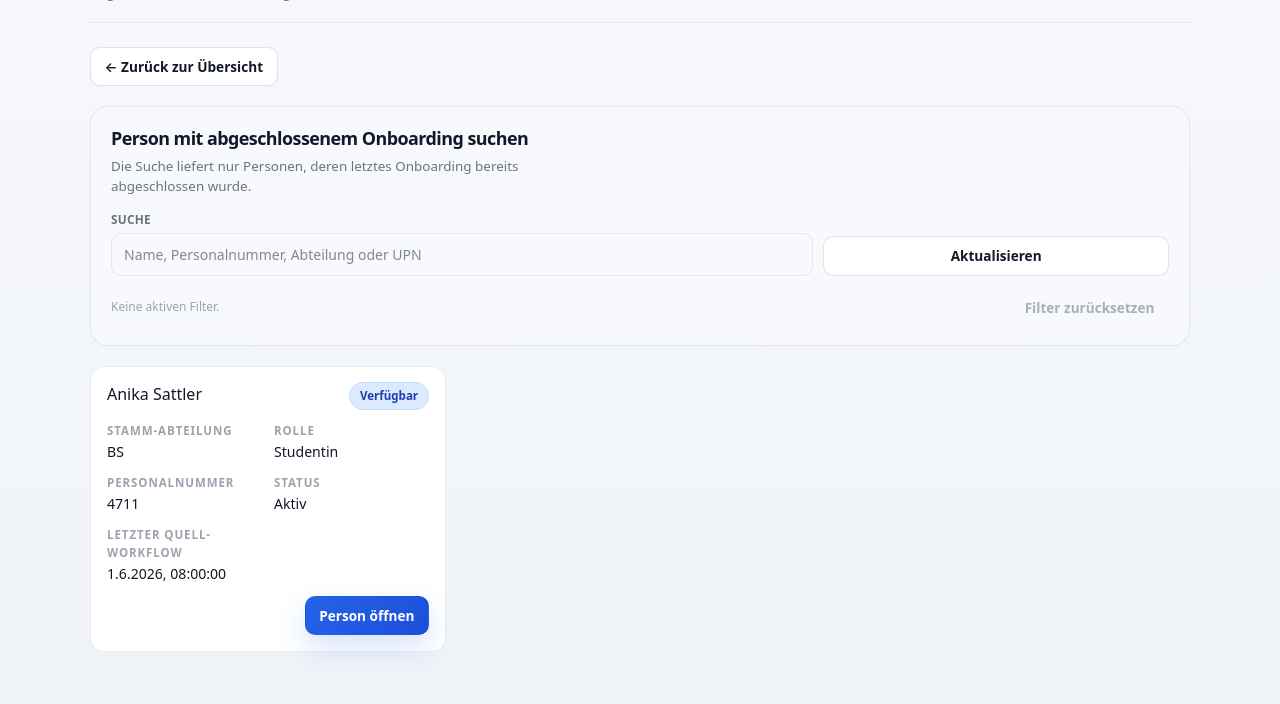
Test: RotationPlanningPage › shows eligible people and existing plans for the selected person
The image size is (1280, 704).
(page scrolled)
Expected: the heading "Anika Sattler" is shown, top-left (107, 382), bottom-right (202, 407)
Expected: the text "BS" is shown, top-left (107, 442), bottom-right (124, 461)
Step 1. Click the button "Person öffnen" → (367, 616), box top-left (305, 596), bottom-right (429, 635)
(page scrolled)
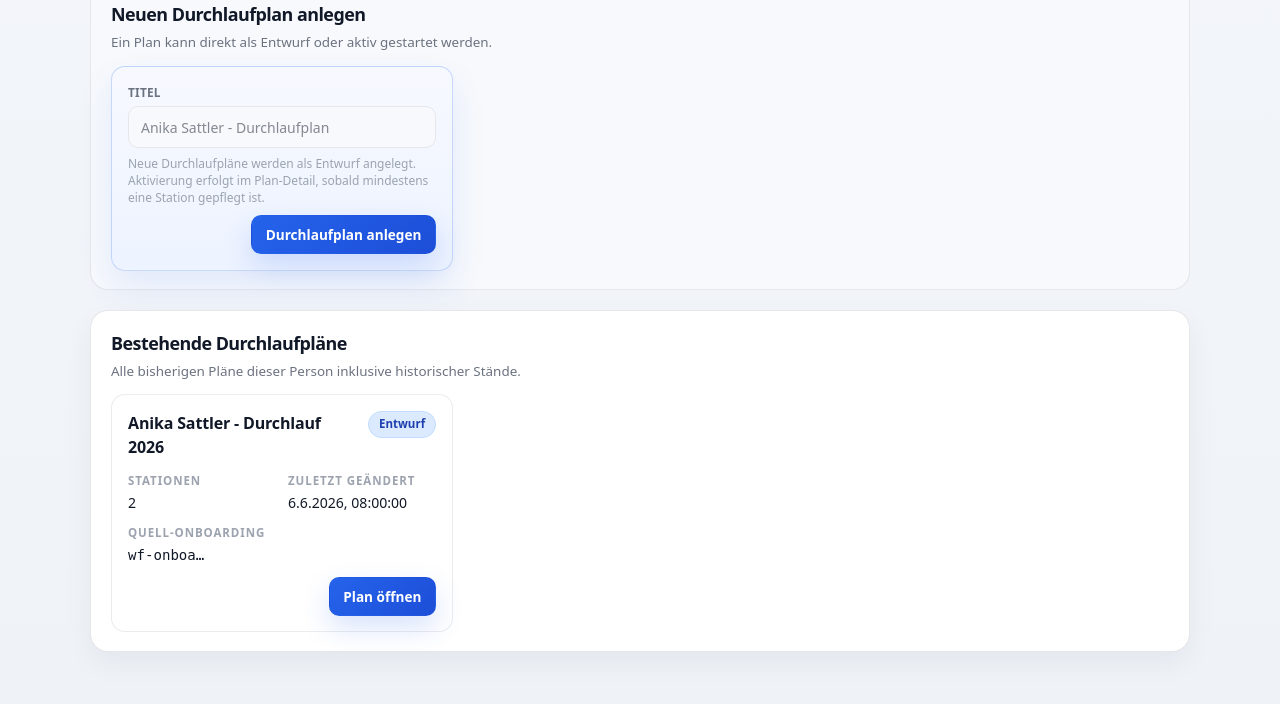
Result: the number of elements titled "wf-onboarding-1" is 2
Result: the element "Bestehende Durchlaufpläne" is shown at top-left (90, 310), bottom-right (1190, 652)
